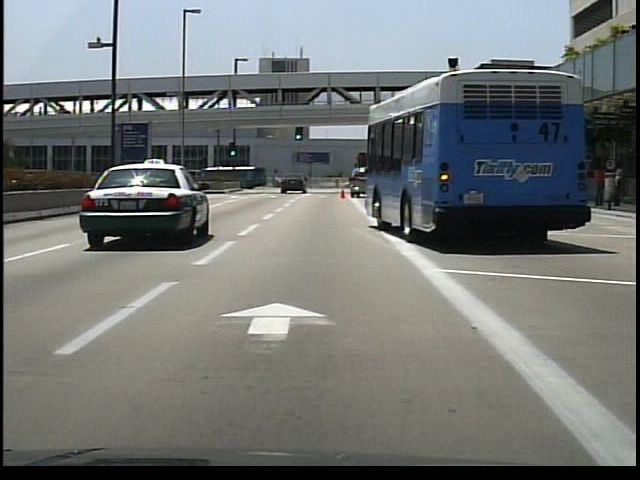person: (612, 161, 625, 210)
